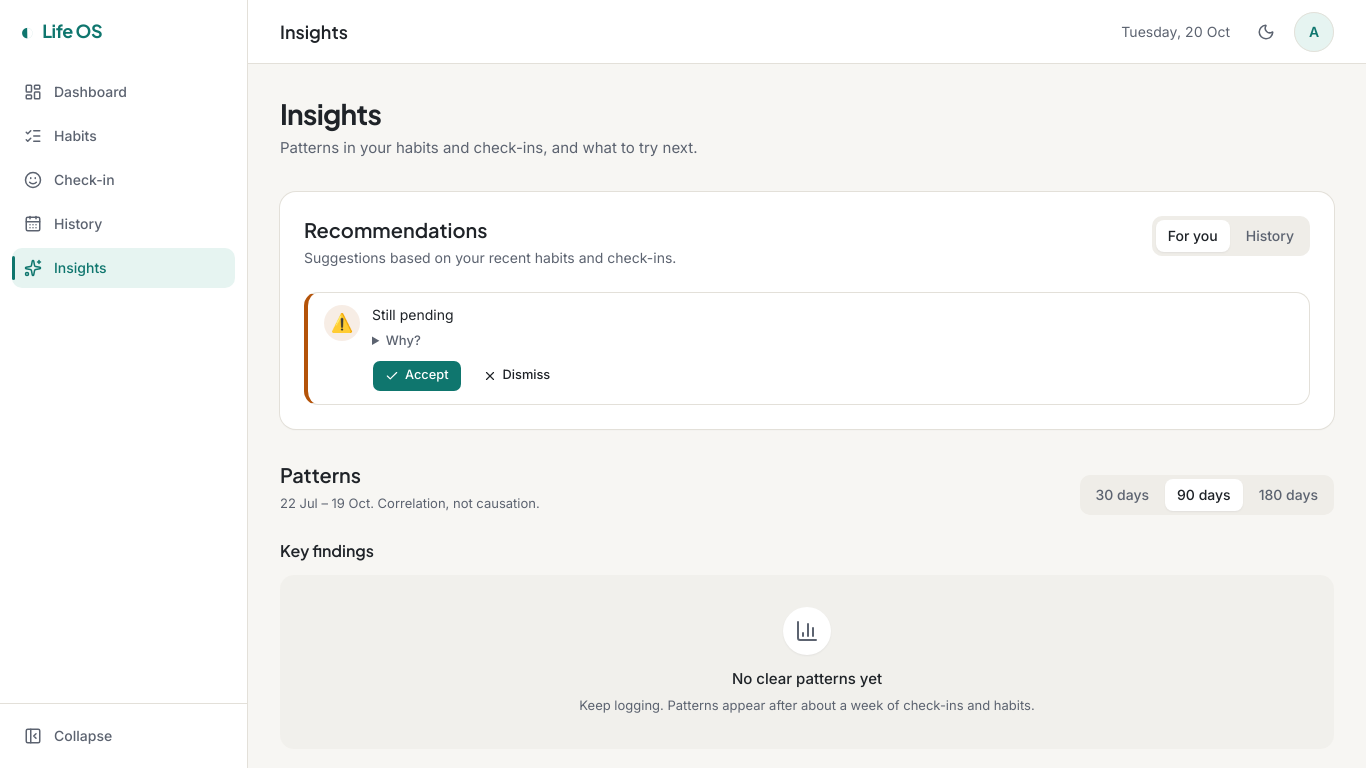
Test: InsightsPage – recommendations › shows accepted and dismissed ones under History
The image size is (1366, 768).
Check: the element "Still pending" is shown, box [304,292,1310,405]
Click the button "History": (1270, 236) [1234,220,1306,252]
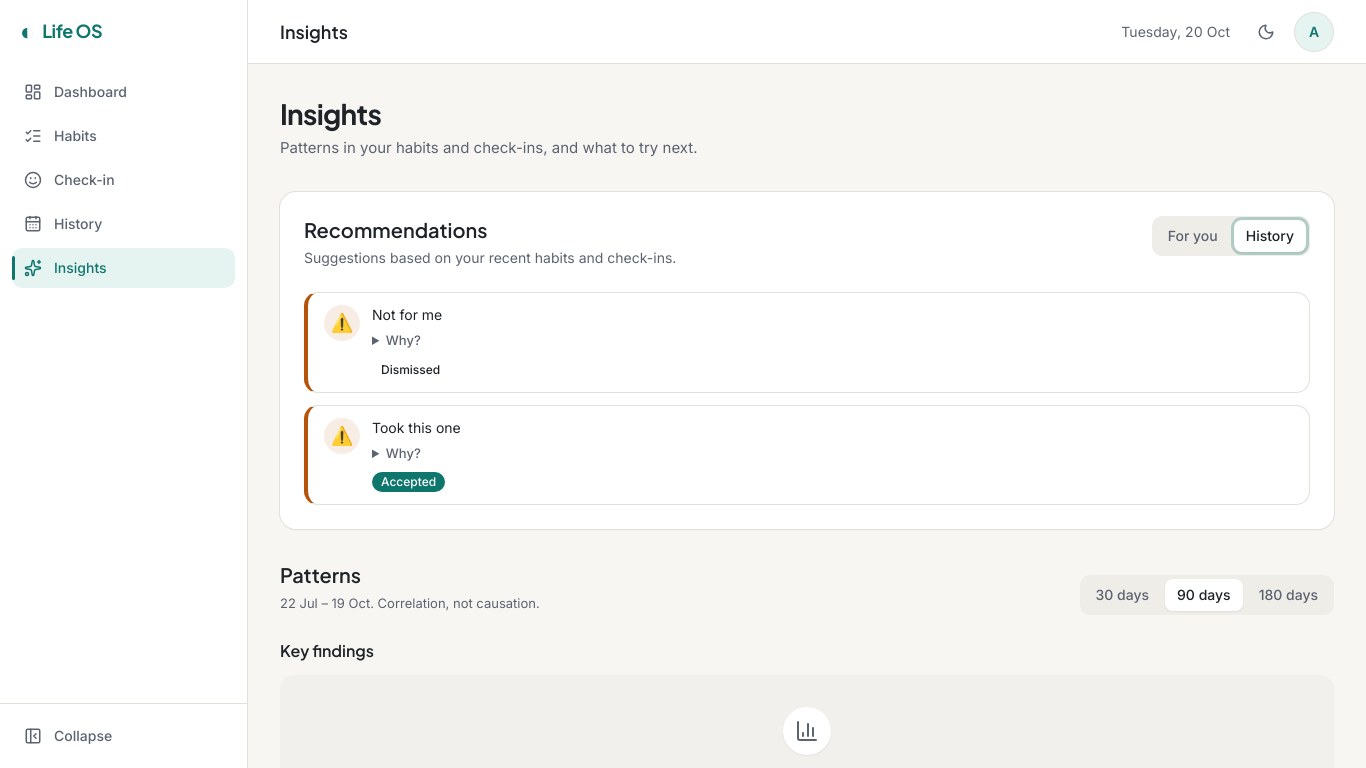
Check: the text "Accepted" is shown, box [372,472,445,492]
Check: the text "Dismissed" is shown, box [372,360,449,380]
